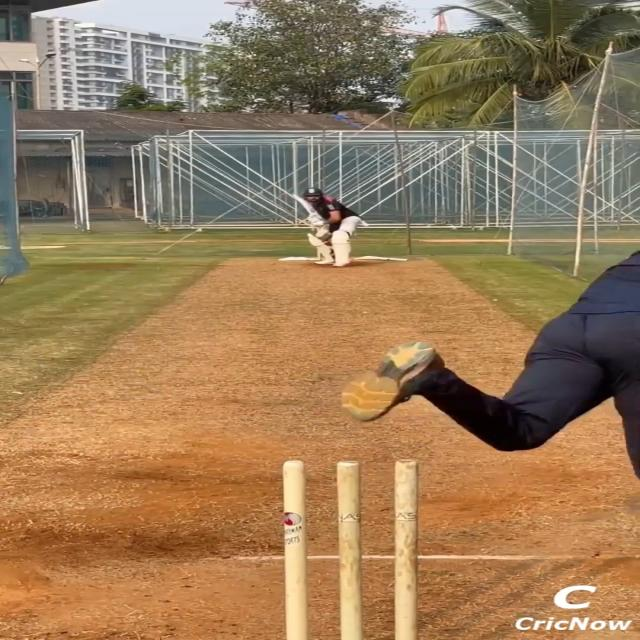ball: (323, 196, 337, 204)
stump: (279, 457, 424, 640)
